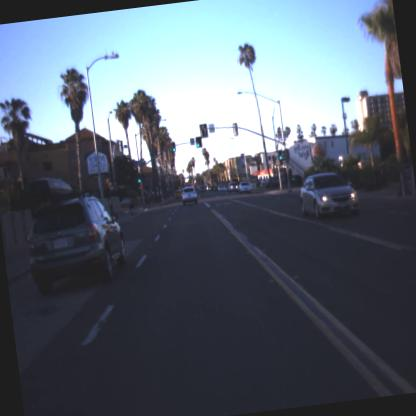trafficlight: (278, 149, 283, 164), (171, 141, 176, 152), (136, 173, 141, 183), (195, 136, 199, 148)
